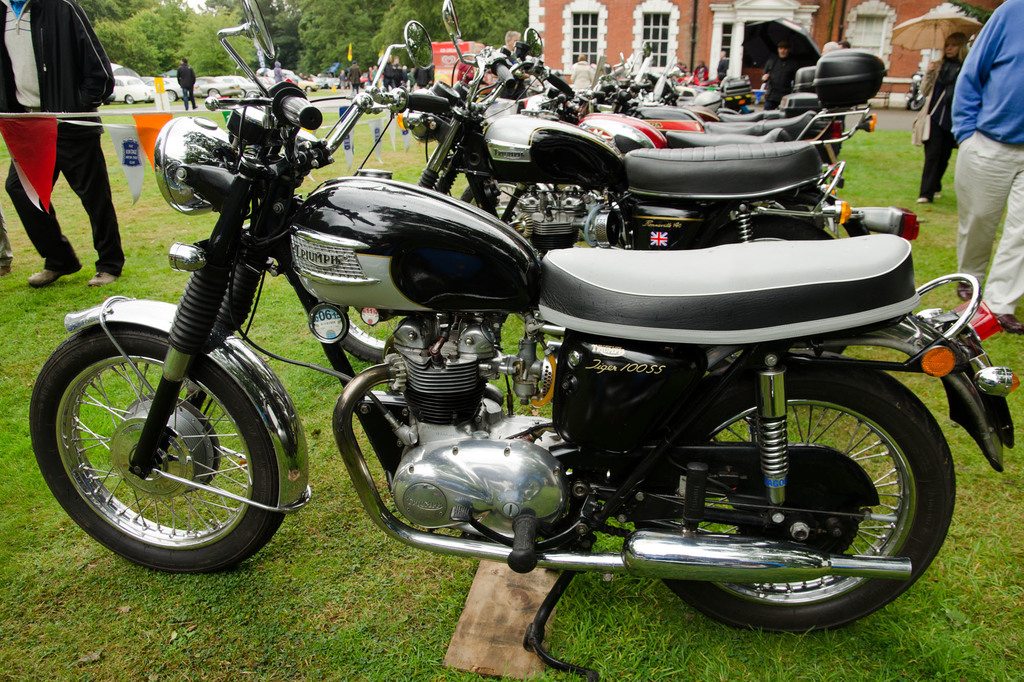cars: (108, 75, 156, 104), (192, 76, 242, 95), (223, 73, 269, 93), (161, 78, 198, 100), (295, 80, 319, 93)
